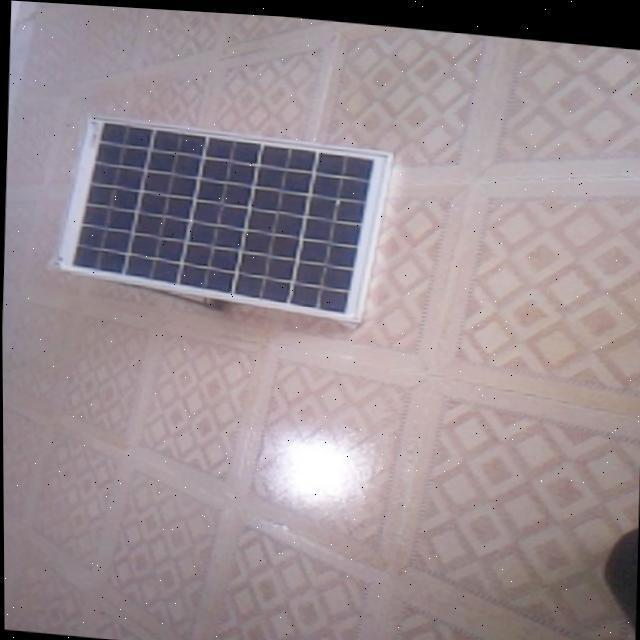Normal Solar Panel: (51, 110, 392, 318)
